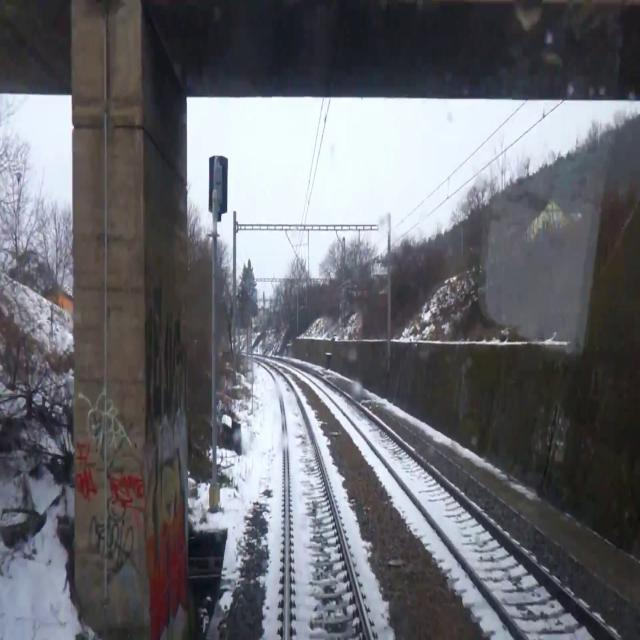rail-track: (311, 376, 611, 639), (273, 370, 369, 639)
